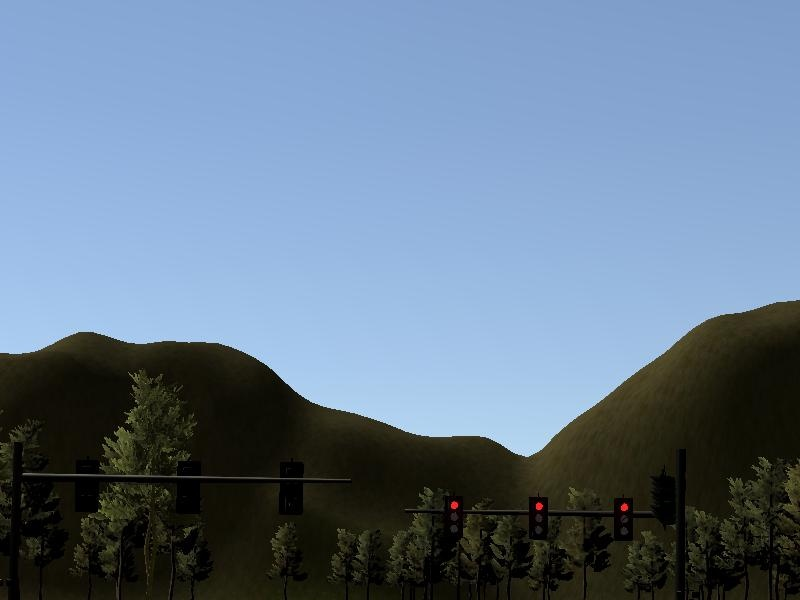traffic_light_red: (426, 495, 666, 546)
